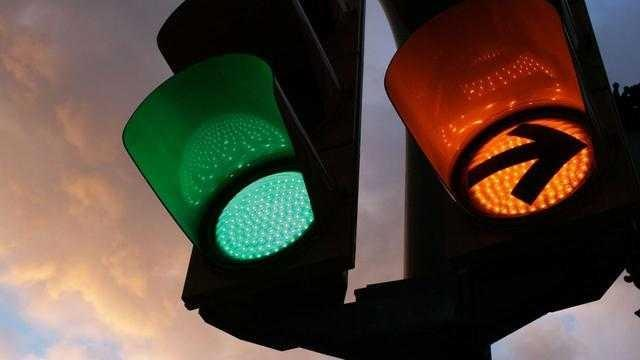7: (386, 3, 628, 218)
red traffic light: (122, 56, 353, 280)
